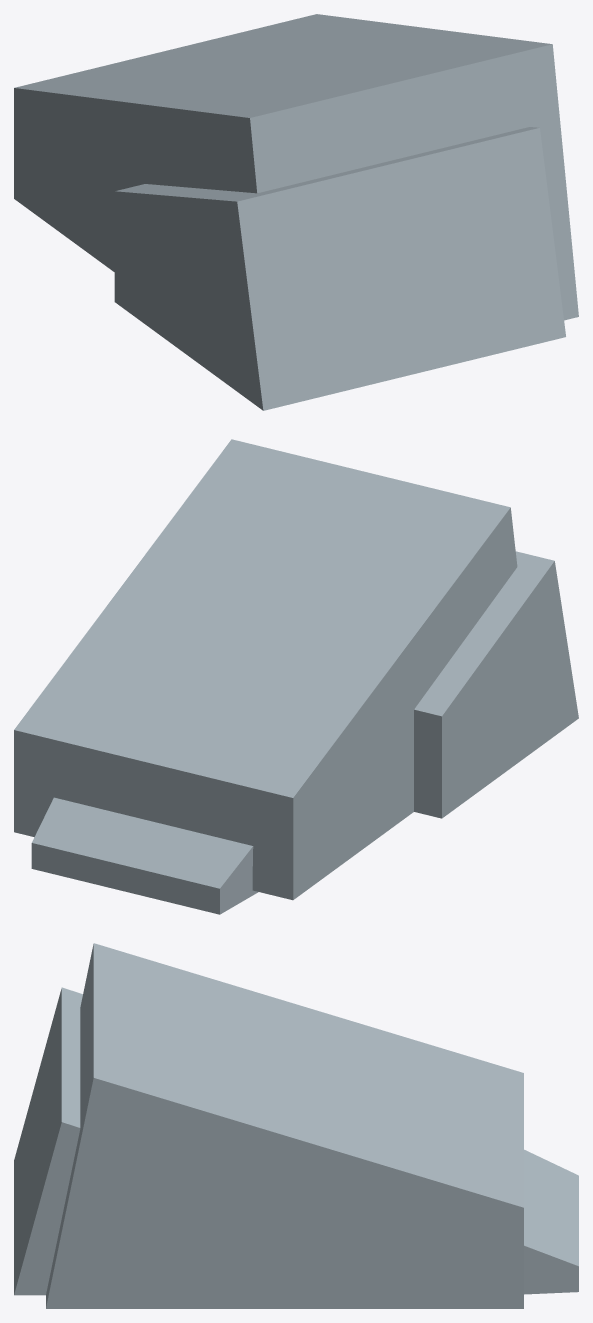
Rendered from Rock_12.fbx.
3 views of the same model, one above another, from view 1: azimuth 30°, elevation 25°; view 2: azimuth 150°, elevation 25°; view 3: azimuth 270°, elevation 25° (orthographic). The views are drawn at different scales.
Parts seen in each view (by area): view 1: Cube; view 2: Cube; view 3: Cube.
Part boxes in pixels (left/top/right/bottom): Cube: left=14, top=14, right=578, bottom=410; Cube: left=14, top=439, right=578, bottom=914; Cube: left=14, top=943, right=578, bottom=1308.
Size of the model in its own units: 2.2 by 1.64 by 3.54.
